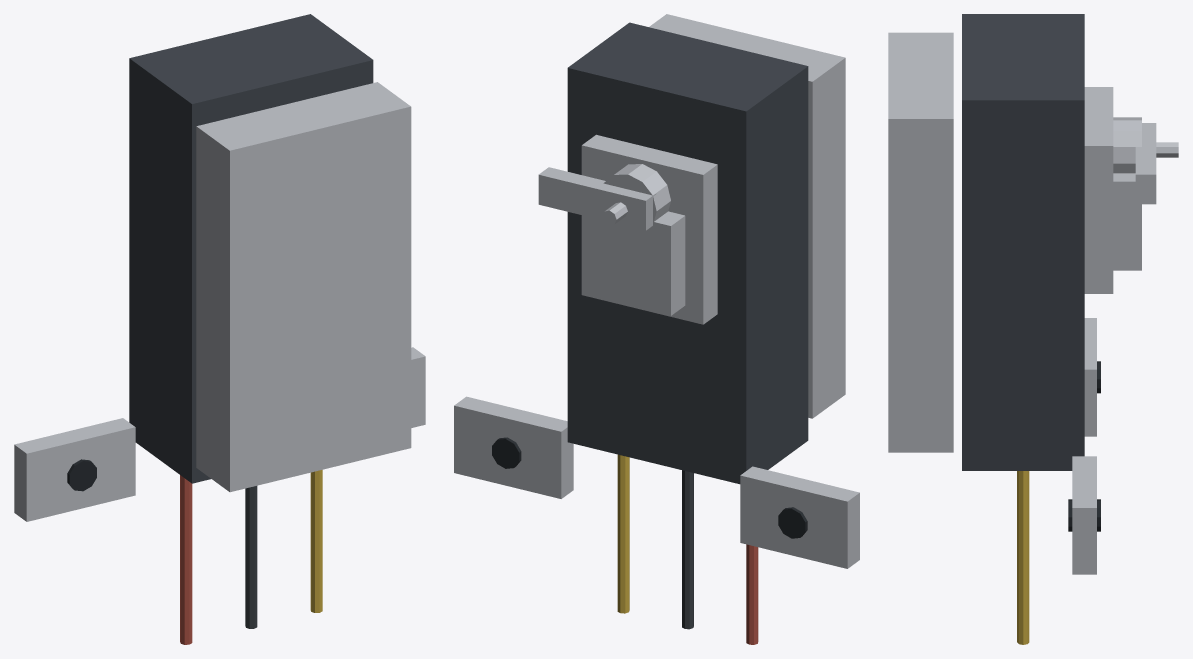
File: servo.glb
3 renders of one model, left to right at view 1: azimuth 30°, elevation 25°; view 2: azimuth 150°, elevation 25°; view 3: azimuth 270°, elevation 25°, orthographic. The views are drawn at different scales.
Visible parts, largest first — view 1: part:servo; view 2: part:servo; view 3: part:servo.
Part boxes in pixels (x1,y1,x2,y2): part:servo: (14,14,425,644); part:servo: (454,14,859,644); part:servo: (888,14,1178,644).
Bounding box in the file's own units: 0.11 × 0.1495 × 0.071.
